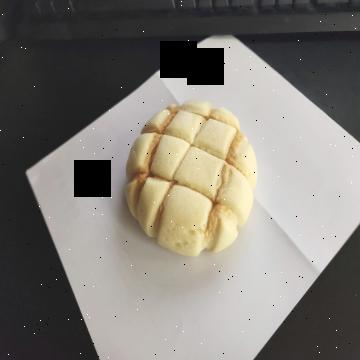melon_bread: (124, 100, 259, 256)
